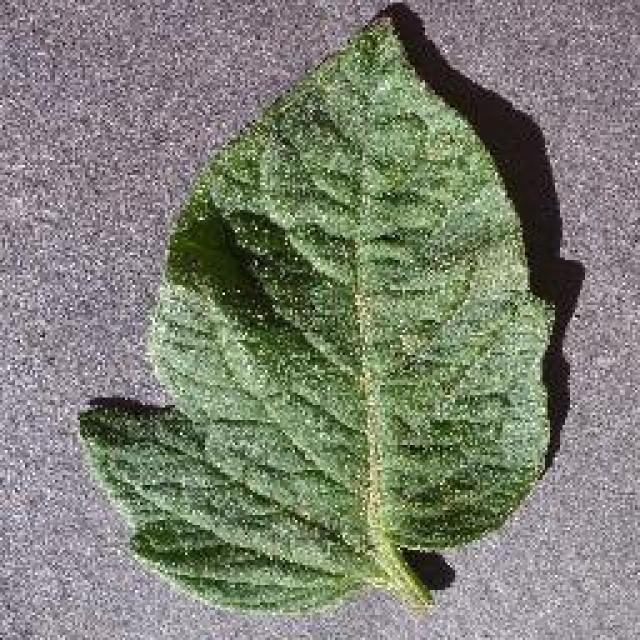Healthy: (65, 0, 575, 638)
